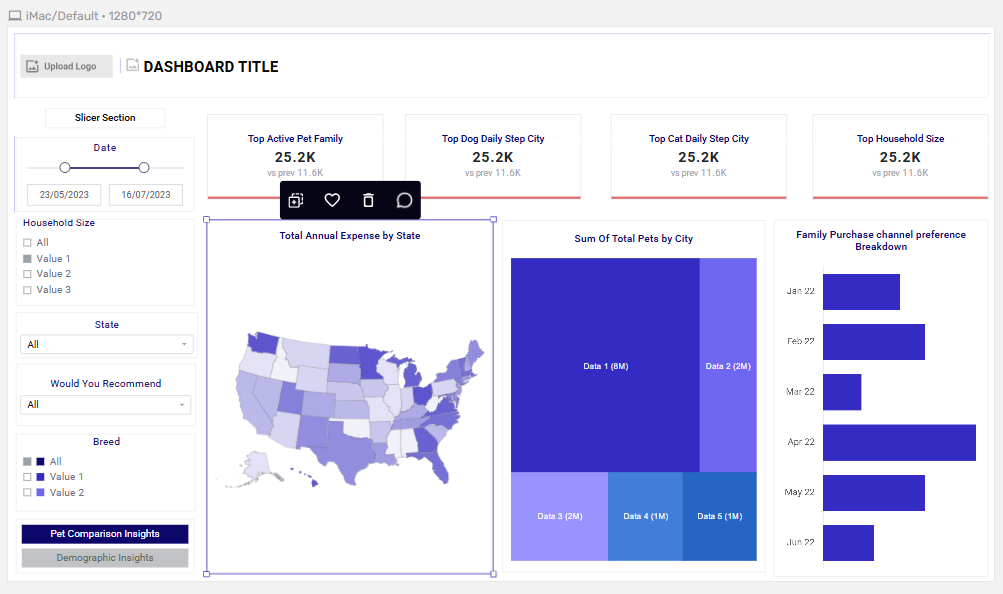

The dashboard page shown, as its layout file describes it:
{"tool":"powerbi","page":{"name":"Demographic Insights","canvas":[1280,720],"ordinal":2},"visuals":[{"type":"shape","box":[5.9,7.3,237.1,701],"z":0},{"type":"shape","box":[242.9,7.3,1030.2,65.9],"z":1000},{"type":"image","title":"Lapdog Image Exec","box":[883.9,22,178.5,38],"z":2000},{"type":"treemap","fields":{"Group":["Family_Data.City"],"Values":["Sum(Family_Data.Total_Pets)"]},"box":[622,237.1,311.7,469.8],"z":3000},{"type":"filledMap","fields":{"Category":["Family_Data.State Hierarchy.State"]},"box":[249.9,237.3,354.6,471],"z":4000},{"type":"shape","box":[242.9,212.2,1037.6,22],"z":5000},{"type":"image","box":[1113.7,22,166.8,38],"z":6000},{"type":"cardVisual","title":"Top Active Pet Family","fields":{"Data":["01_Dax Measures.Top Active Pet Family ID"]},"box":[250,95.9,242.2,95.9],"z":7000},{"type":"barChart","title":"Family Purchase channel Preference Breakdown","fields":{"Category":["Rating_Data.Where Did You Buy This Product?"],"Y":["Count(Tracker_Data.Family_ID)"]},"box":[946.8,237.1,317.6,471.2],"z":8000},{"type":"image","box":[12.7,6.8,218.9,80.1],"z":9000},{"type":"shape","box":[6.8,87,236.5,17.6],"z":10000},{"type":"shape","box":[5.9,612.6,235.5,17.6],"z":11000},{"type":"pageNavigator","title":"Page navigator1","box":[14.7,668.3,203.2,30.3],"z":12000},{"type":"textbox","box":[12.7,104.5,218.9,32.2],"z":13000},{"type":"slicer","title":"Date","fields":{"Values":["Date_Table.Date"]},"box":[12.7,145.6,228.6,93.8],"z":14000},{"type":"slicer","title":"Household_Size","fields":{"Values":["Family_Data.Household Category"]},"box":[13.7,246.2,219.8,94.8],"z":15000},{"type":"slicer","title":"Slicer Would you Recommend","fields":{"Values":["Rating_Data.Would You Recommend this Product?","Rating_Data.Where Did You Buy This Product?"]},"box":[14.7,417.2,218.9,74.3],"z":16000},{"type":"slicer","title":"State","fields":{"Values":["Family_Data.State"]},"box":[13.7,347.8,218.9,60.6],"z":17000},{"type":"cardVisual","title":"Top Dog Daily Step City","fields":{"Data":["02_Demographic Measures.Top Dog City"]},"box":[542.3,95.5,195.5,96.4],"z":18000},{"type":"cardVisual","title":"Top Cat Daily Step City","fields":{"Data":["02_Demographic Measures.Top Cat City"]},"box":[796.5,95.9,243.2,95.9],"z":19000},{"type":"cardVisual","title":"Top  Household Size ","fields":{"Data":["02_Demographic Measures.Top Household Size Category"]},"box":[1066.8,95.9,197.7,95.9],"z":20000},{"type":"textbox","box":[250.2,16.1,622,57.1],"z":21000},{"type":"slicer","title":"Breed","fields":{"Values":["Pet_Data.Breed"]},"box":[14.7,498.3,217.9,114.3],"z":22000},{"type":"pageNavigator","title":"Page navigator1","box":[14.7,630.2,203.2,30.3],"z":23000},{"type":"actionButton","box":[0,0,100,40],"z":24000}]}

Visuals, with their boxes on the page's 1280x720 design canvas (x1, y1, x2, y2). These are canvas units, not pixel positions in the 1003x594 screenshot, which may show the page scaled, cropped or inside an application window:
shape: l=6, t=7, r=243, b=708
shape: l=243, t=7, r=1273, b=73
"Lapdog Image Exec" image: l=884, t=22, r=1062, b=60
treemap - Family_Data.City x Sum(Family_Data.Total_Pets): l=622, t=237, r=934, b=707
filledMap - Family_Data.State Hierarchy.State: l=250, t=237, r=604, b=708
shape: l=243, t=212, r=1280, b=234
image: l=1114, t=22, r=1280, b=60
"Top Active Pet Family" cardVisual: l=250, t=96, r=492, b=192
"Family Purchase channel Preference Breakdown" barChart: l=947, t=237, r=1264, b=708
image: l=13, t=7, r=232, b=87
shape: l=7, t=87, r=243, b=105
shape: l=6, t=613, r=241, b=630
"Page navigator1" pageNavigator: l=15, t=668, r=218, b=699
textbox: l=13, t=104, r=232, b=137
"Date" slicer: l=13, t=146, r=241, b=239
"Household_Size" slicer: l=14, t=246, r=234, b=341
"Slicer Would you Recommend" slicer: l=15, t=417, r=234, b=492
"State" slicer: l=14, t=348, r=233, b=408
"Top Dog Daily Step City" cardVisual: l=542, t=96, r=738, b=192
"Top Cat Daily Step City" cardVisual: l=796, t=96, r=1040, b=192
"Top  Household Size " cardVisual: l=1067, t=96, r=1264, b=192
textbox: l=250, t=16, r=872, b=73
"Breed" slicer: l=15, t=498, r=233, b=613
"Page navigator1" pageNavigator: l=15, t=630, r=218, b=660
actionButton: l=0, t=0, r=100, b=40
